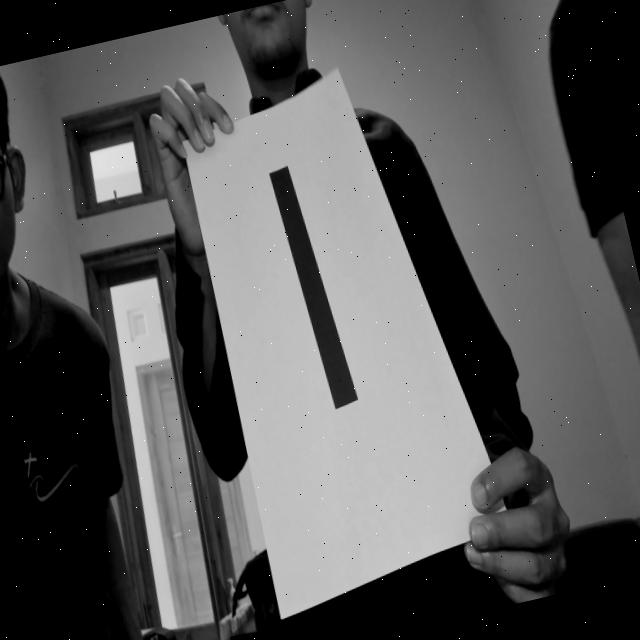i: (254, 141, 378, 443)
